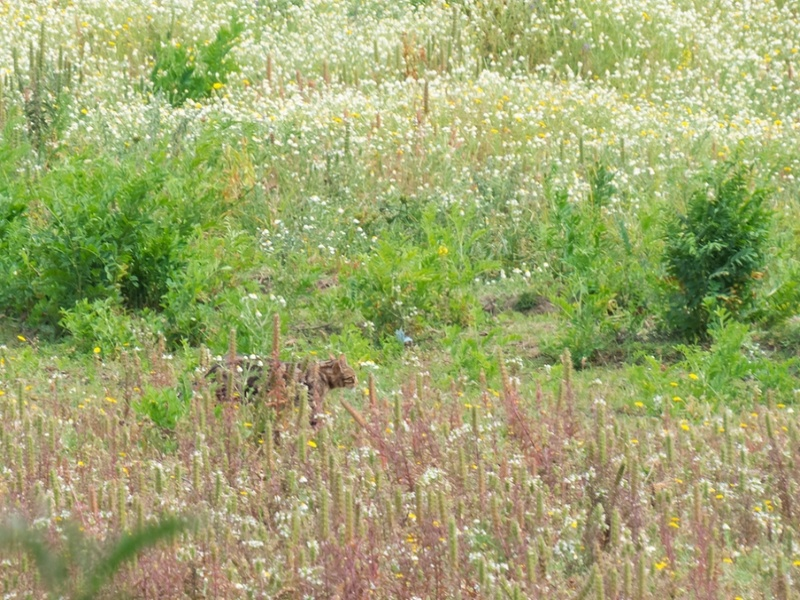cat: (189, 348, 364, 427)
